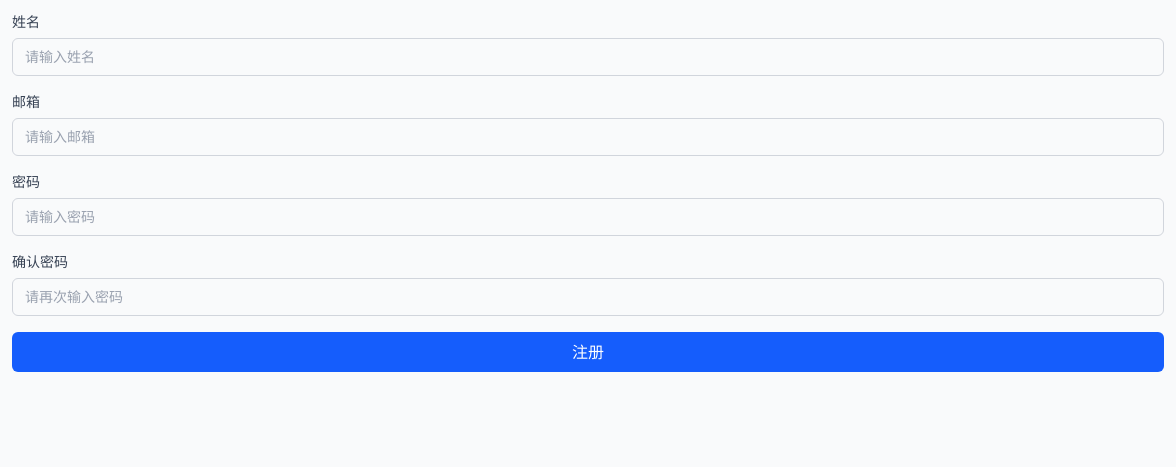
RegisterForm › 空提交应显示验证错误
Click the button "注册".
click(588, 352)  # box [12,332,1164,372]
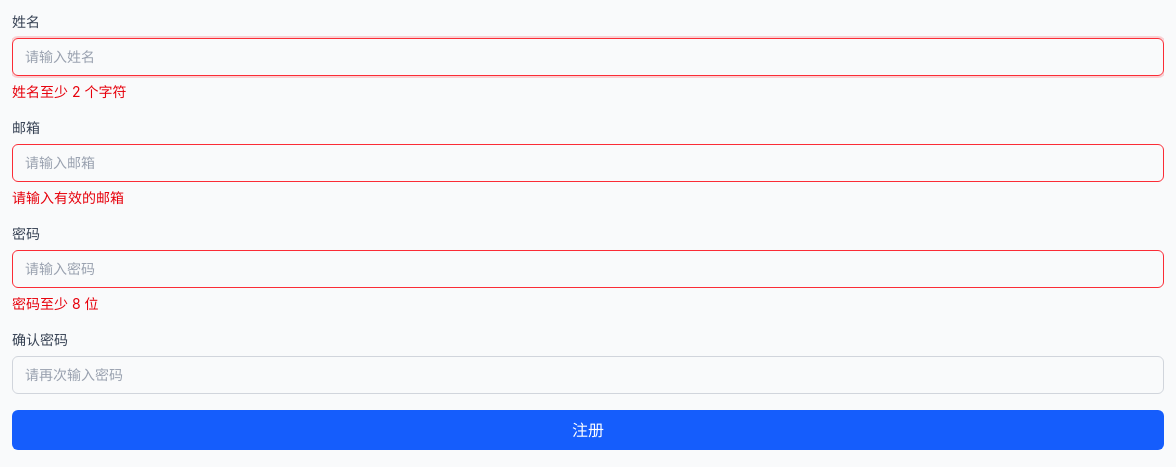
Now the text "姓名至少 2 个字符" is shown, box [12,83,126,100]
Now the text "请输入有效的邮箱" is shown, box [12,189,124,206]
Now the text "密码至少 8 位" is shown, box [12,295,98,312]
